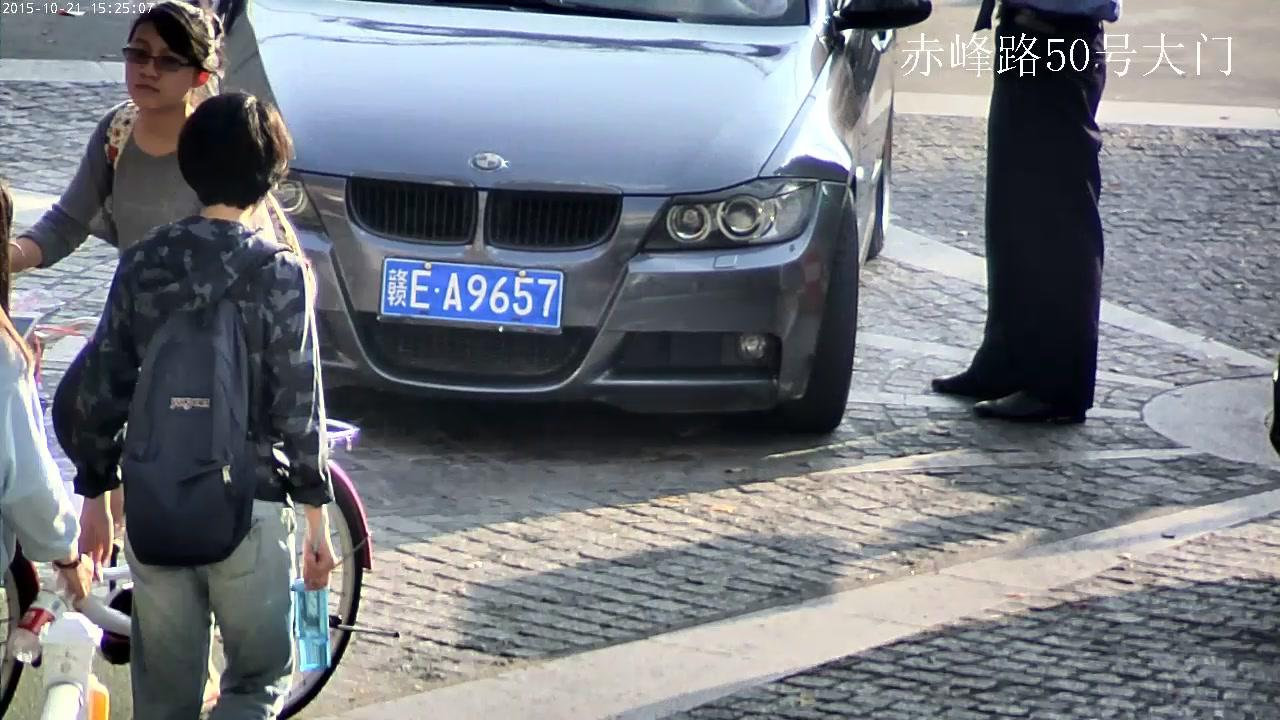face: (126, 20, 193, 107)
